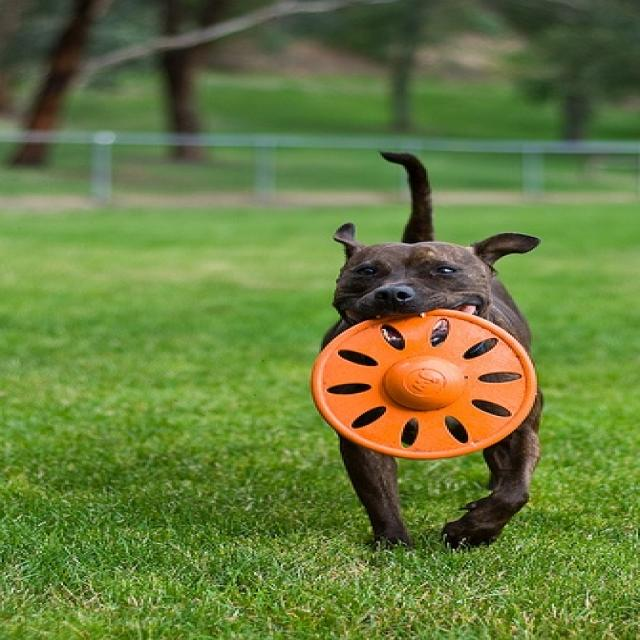dog: (308, 143, 544, 557)
